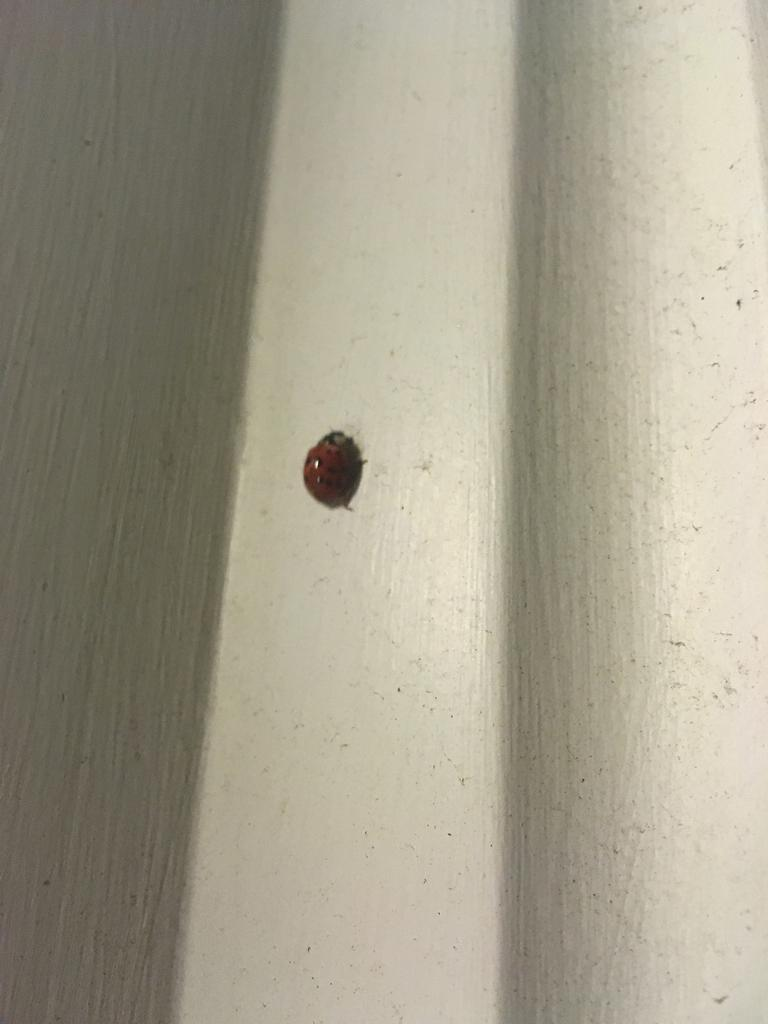ladybug: (303, 430, 371, 513)
